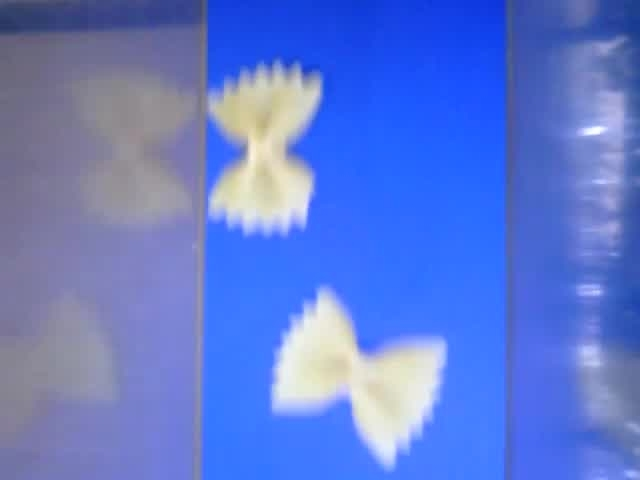farfalle: (269, 287, 446, 468), (204, 58, 322, 233)
